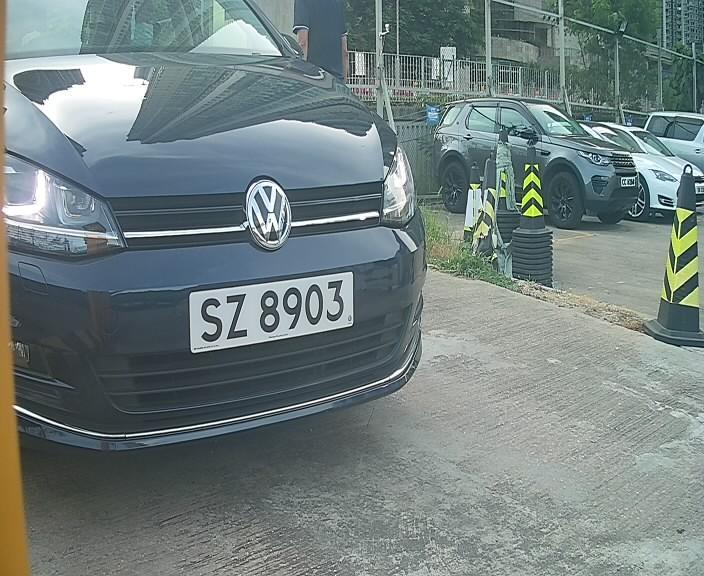privatecar: (1, 13, 463, 458)
